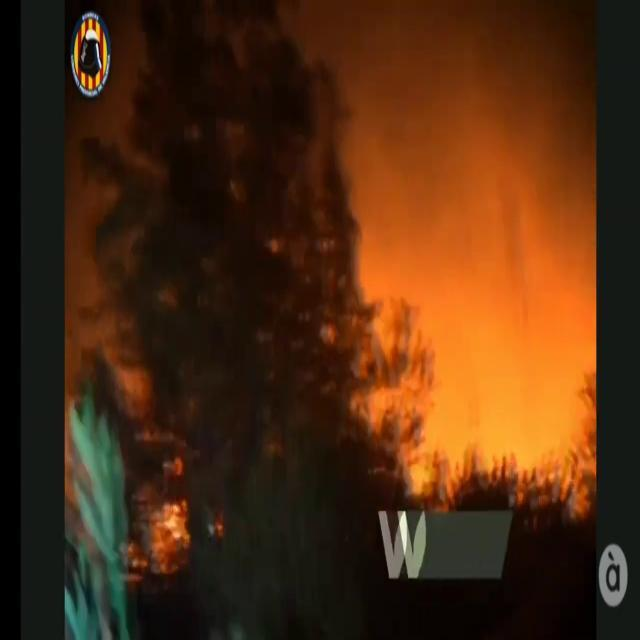Smoke: (291, 1, 597, 407)
